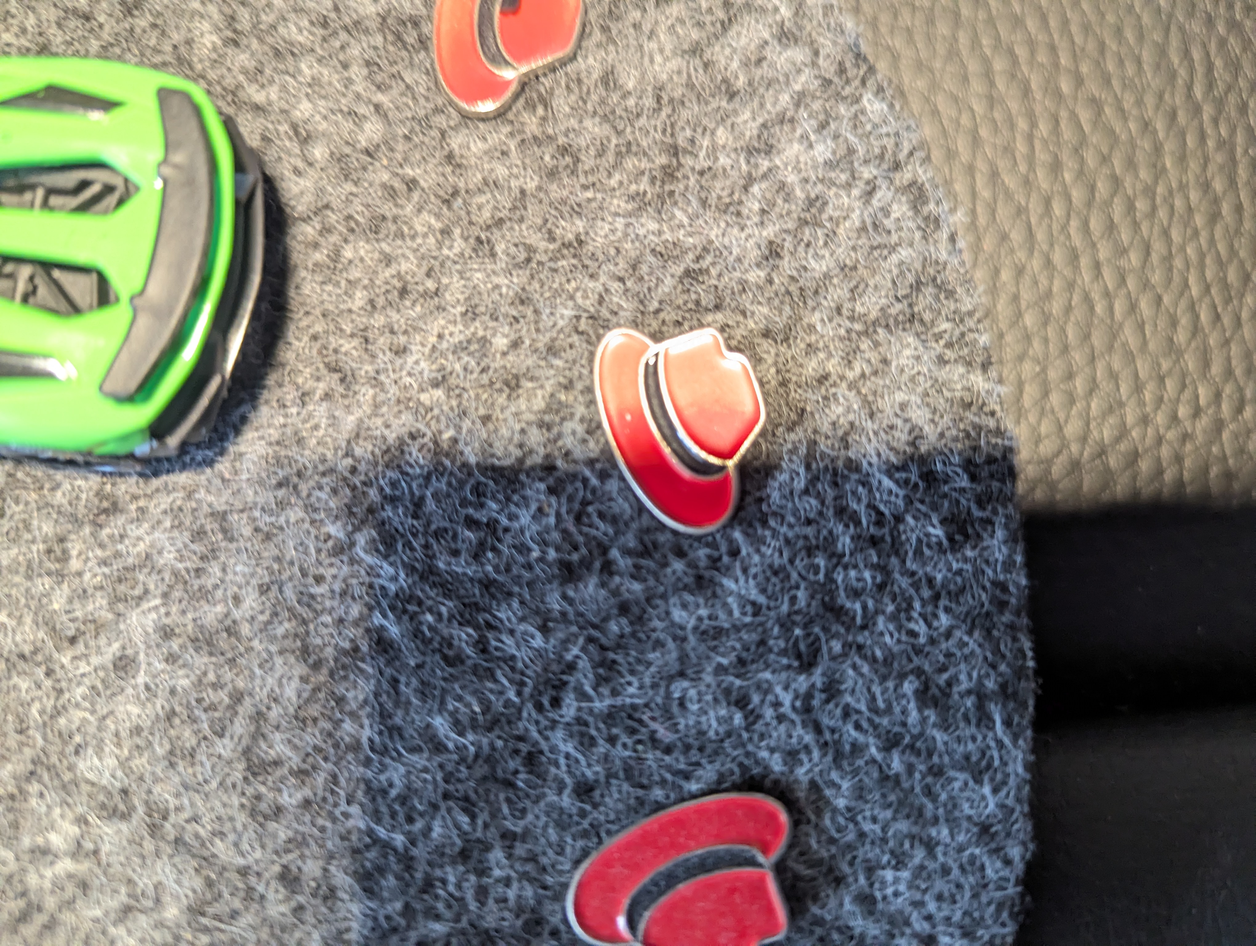Red-Hat: (575, 291, 792, 563), (526, 760, 807, 946), (420, 0, 611, 142)
